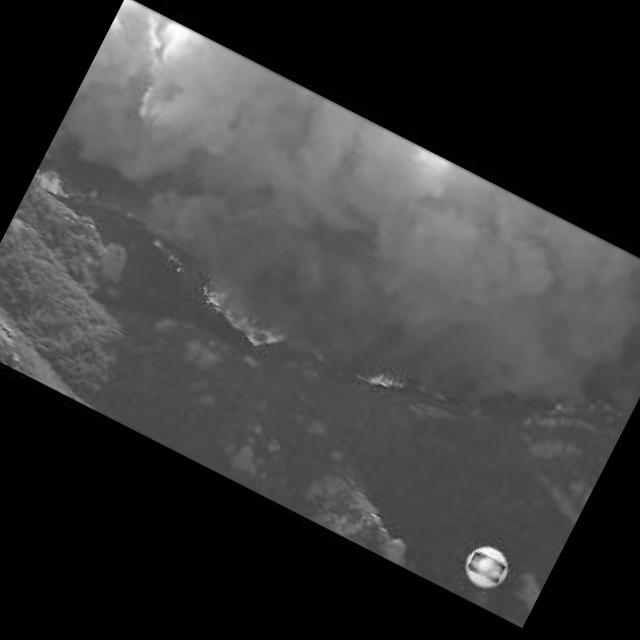fire: (190, 282, 295, 358), (146, 238, 190, 272), (34, 164, 68, 198), (367, 368, 405, 396)
